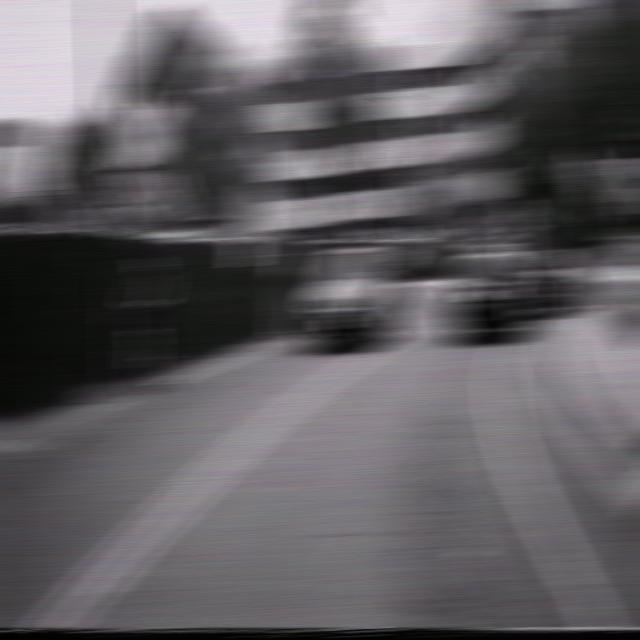stop: (610, 174, 640, 214)
